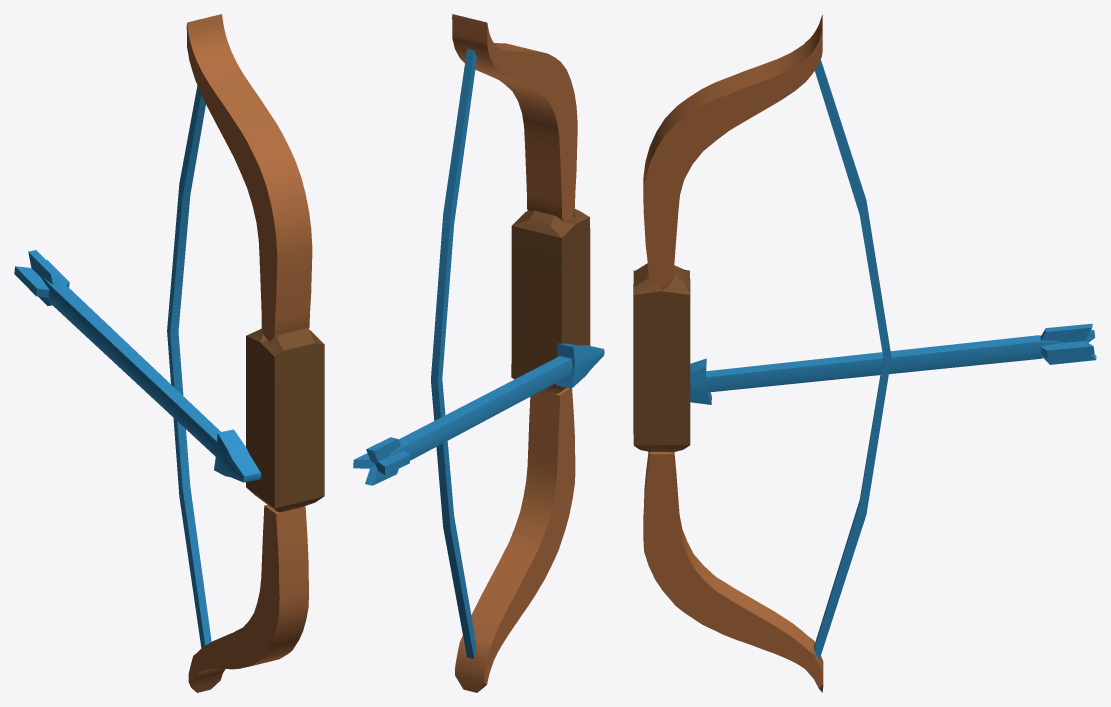
File: arrow_bow.fbx
3 renders of one model, left to right at view 1: azimuth 30°, elevation 25°; view 2: azimuth 150°, elevation 25°; view 3: azimuth 270°, elevation 25°, orthographic.
Parts seen in each view (by area): view 1: Cube.001, Cube.004; view 2: Cube.001, Cube.004; view 3: Cube.001, Cube.004.
Boxes of the visible parts, x1,y1,x2,y2 form: Cube.001: (167, 14, 324, 692); Cube.004: (14, 250, 261, 482); Cube.001: (431, 14, 590, 692); Cube.004: (353, 343, 604, 485); Cube.001: (633, 15, 891, 692); Cube.004: (690, 323, 1096, 404).
Bounding box in the file's own units: 18.7 × 95.62 × 152.
